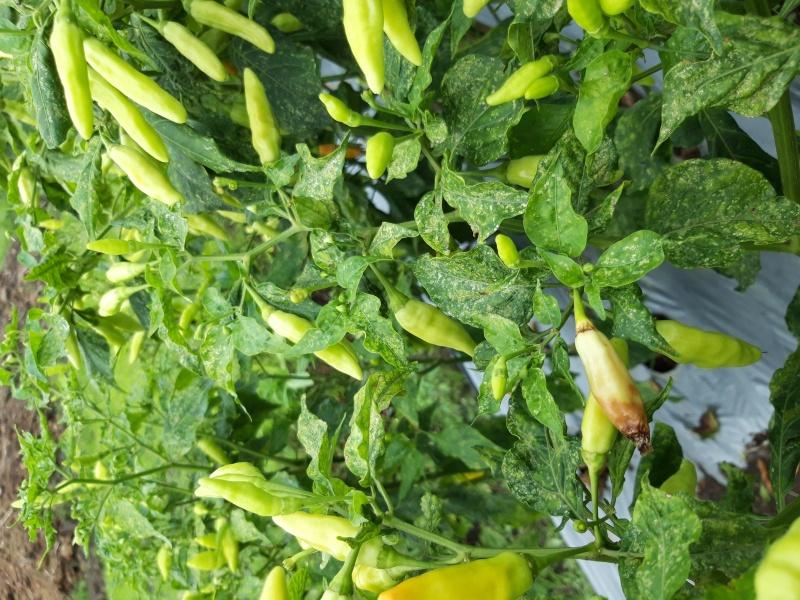antraknosa: (575, 331, 651, 454)
cabai_normal: (83, 65, 171, 165), (85, 39, 187, 124), (379, 551, 533, 599), (268, 309, 363, 380), (274, 511, 384, 565), (395, 298, 480, 359), (657, 322, 767, 367), (53, 24, 95, 139), (183, 1, 274, 54), (107, 144, 186, 205), (341, 1, 388, 96), (157, 21, 228, 82), (243, 69, 283, 167), (198, 477, 286, 517), (486, 57, 550, 107), (378, 1, 422, 66), (563, 1, 608, 35), (366, 133, 394, 178), (319, 93, 352, 121), (525, 78, 557, 101), (497, 235, 519, 263)
